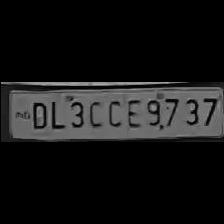3: (65, 96, 84, 130), (181, 95, 199, 127)
7: (199, 94, 219, 128), (161, 94, 179, 128)
9: (142, 96, 160, 128)
C: (85, 96, 103, 130), (104, 96, 122, 128)
D: (26, 98, 48, 130)
E: (122, 95, 142, 129)
L: (46, 97, 64, 130)
